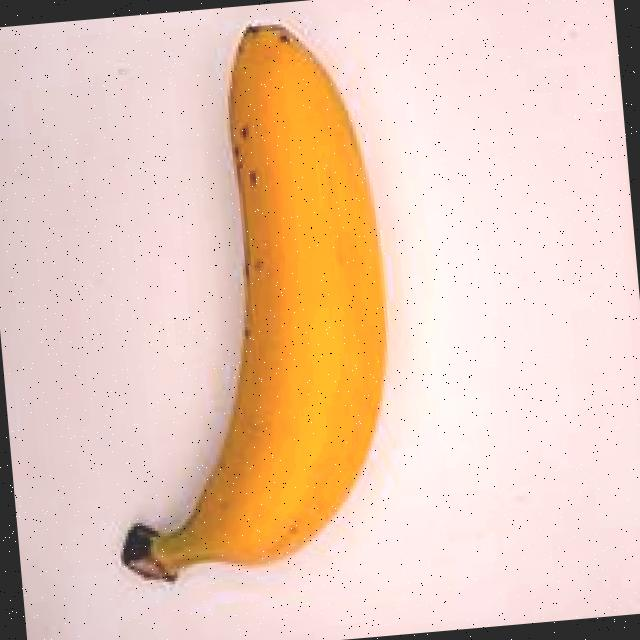Ripe: (52, 0, 449, 635)
